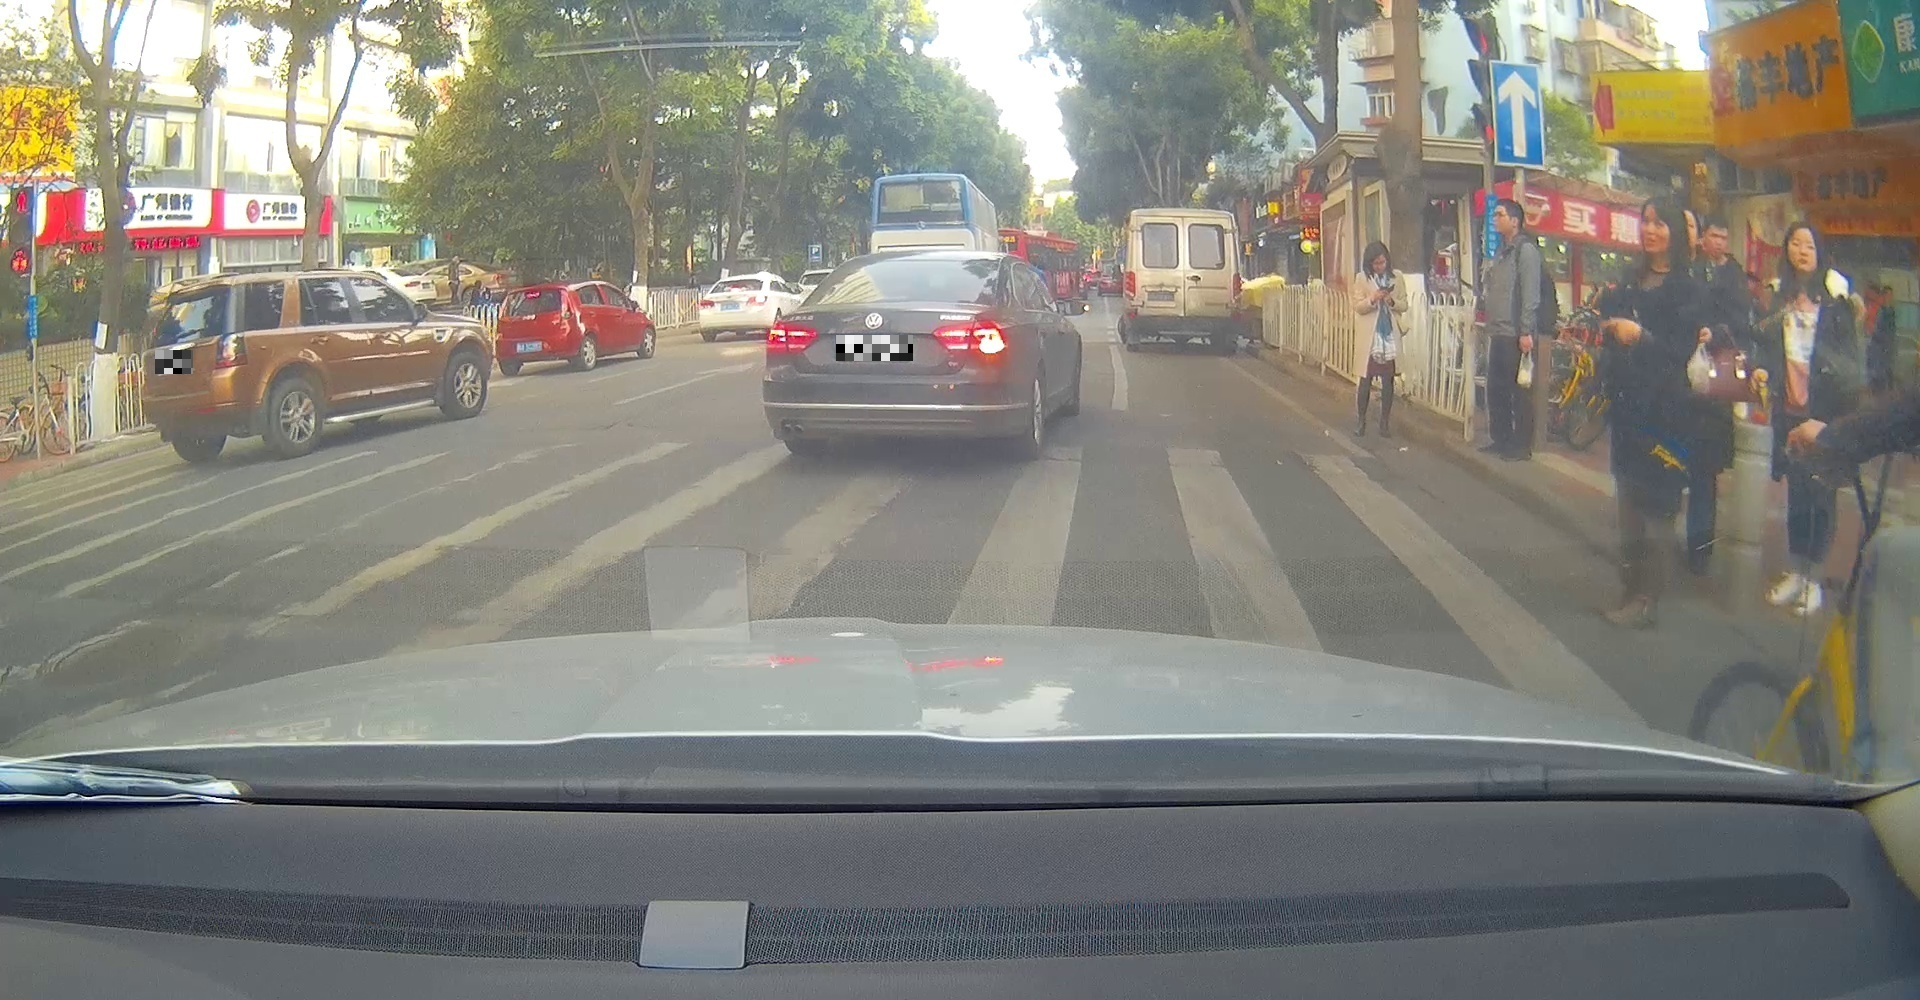L_light: (763, 320, 820, 355), (1121, 269, 1137, 302), (137, 349, 147, 385), (497, 308, 505, 320)
R_light: (932, 317, 1008, 360), (212, 330, 248, 369), (1230, 272, 1244, 306), (559, 302, 571, 319)
T_light: (857, 294, 900, 305), (178, 291, 204, 299), (1173, 213, 1197, 222), (524, 291, 542, 299)
day-brake: (490, 282, 579, 376)
day-no: (138, 270, 251, 464), (1117, 203, 1246, 353)
day-right: (763, 250, 1010, 458)
plate_1: (155, 350, 193, 374)
plate_2: (836, 335, 913, 360)
